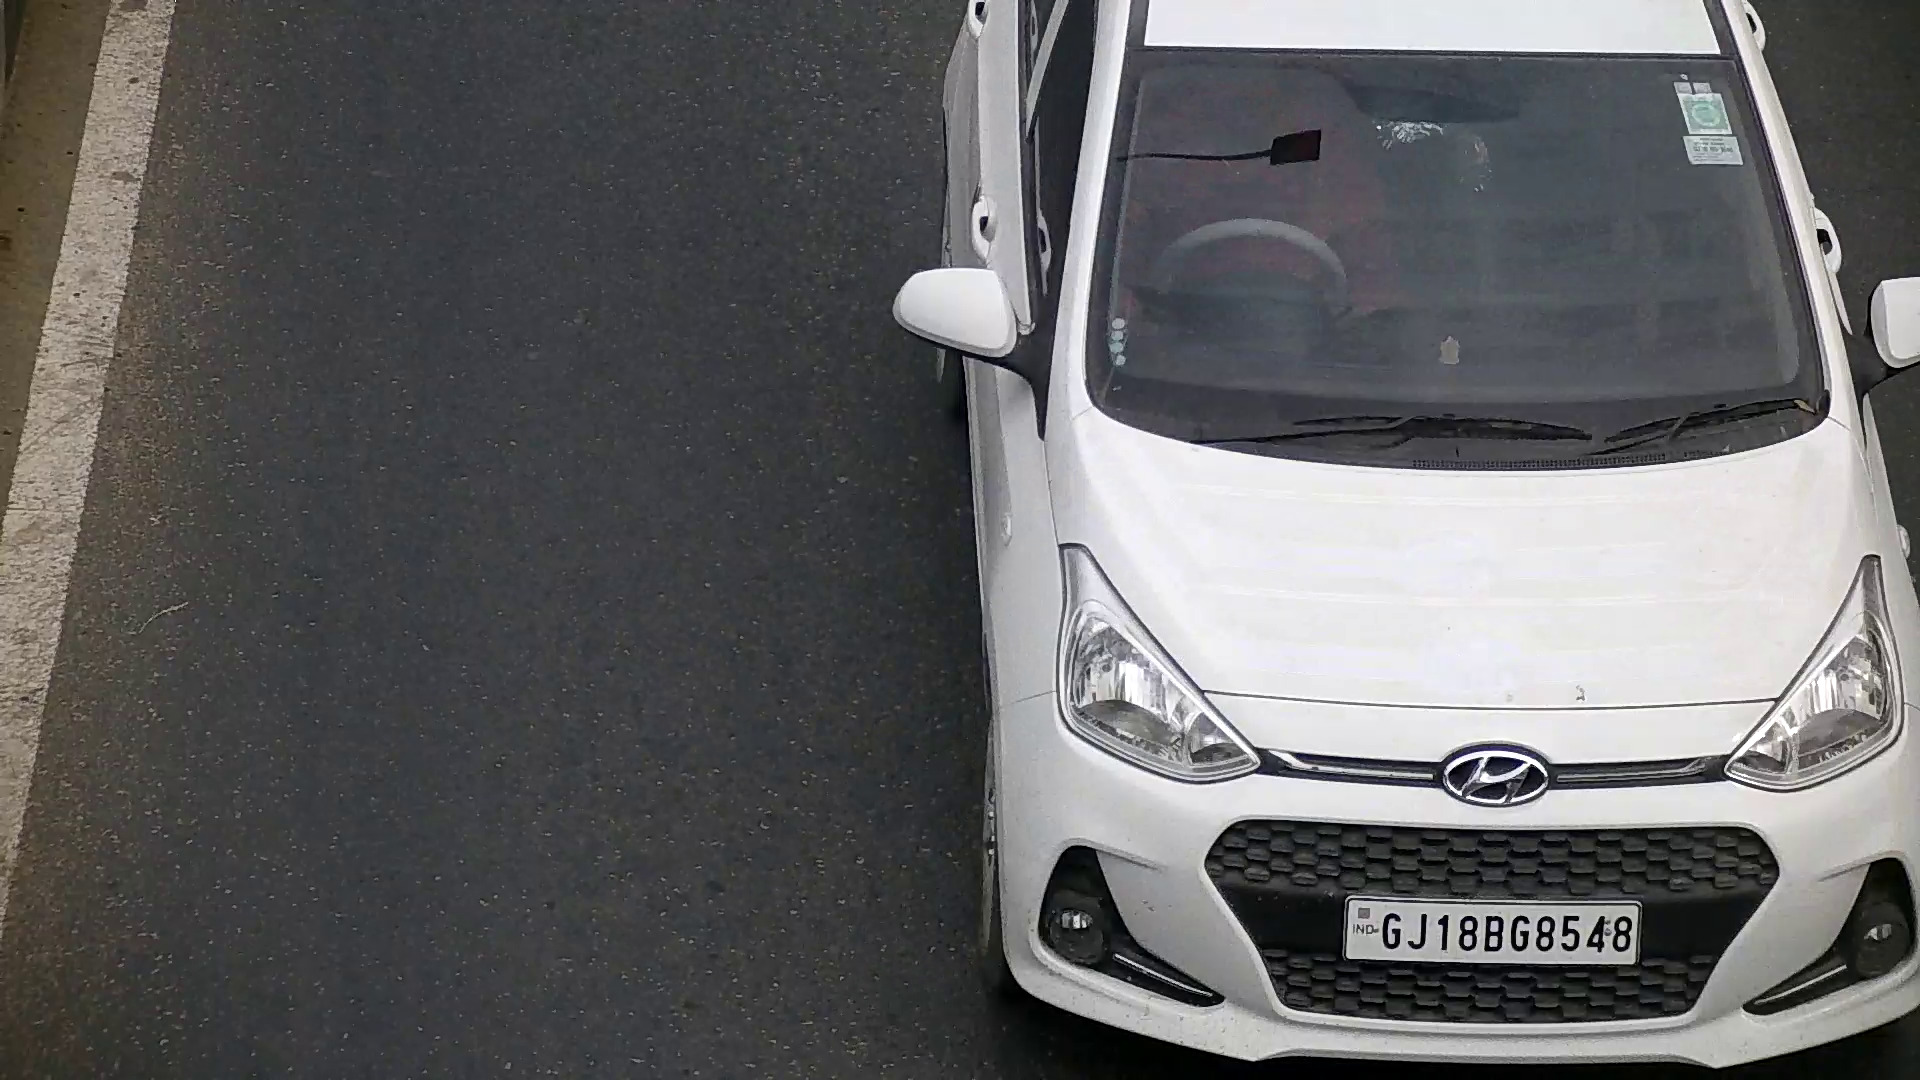numberplate: (1341, 888, 1638, 972)
